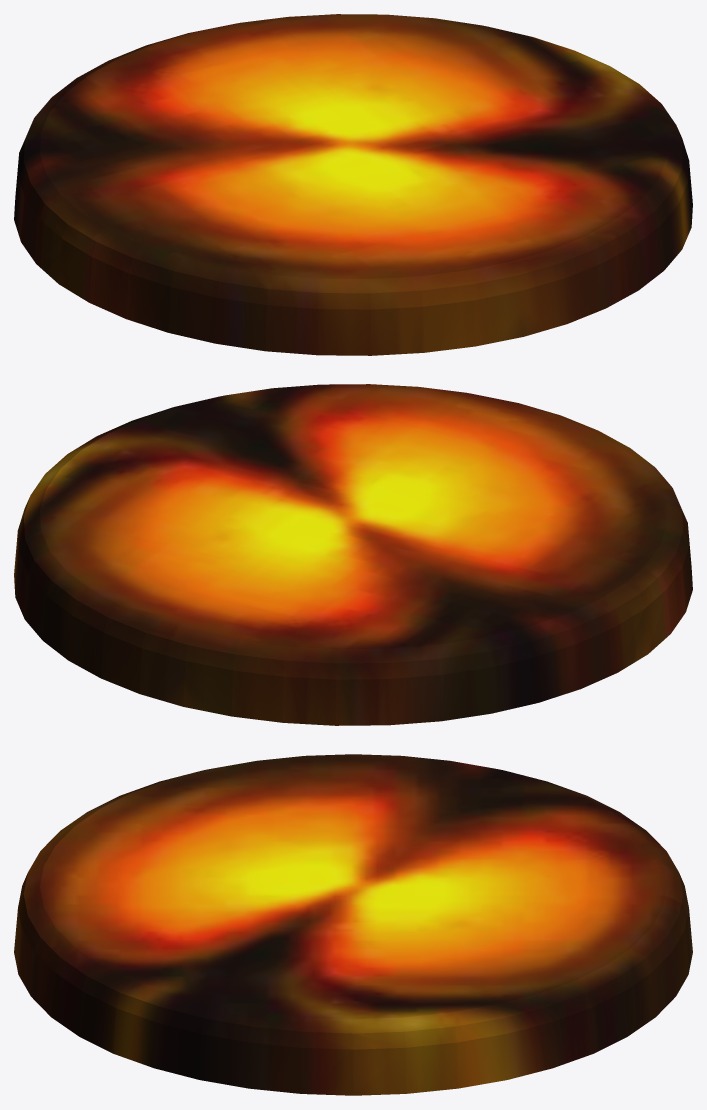
Rendered from TrophyStand-transformed.glb.
3 renders of one model, top to bottom at view 1: azimuth 30°, elevation 25°; view 2: azimuth 150°, elevation 25°; view 3: azimuth 270°, elevation 25°, orthographic.
Parts seen in each view (by area): view 1: Mesh_0019; view 2: Mesh_0019; view 3: Mesh_0019.
Part boxes in pixels (x1,y1,x2,y2): Mesh_0019: [14, 14, 692, 355]; Mesh_0019: [14, 384, 692, 725]; Mesh_0019: [14, 754, 692, 1095].
Bounding box in the file's own units: 1.39 × 0.1512 × 1.39.
1 material, 1 textured.
